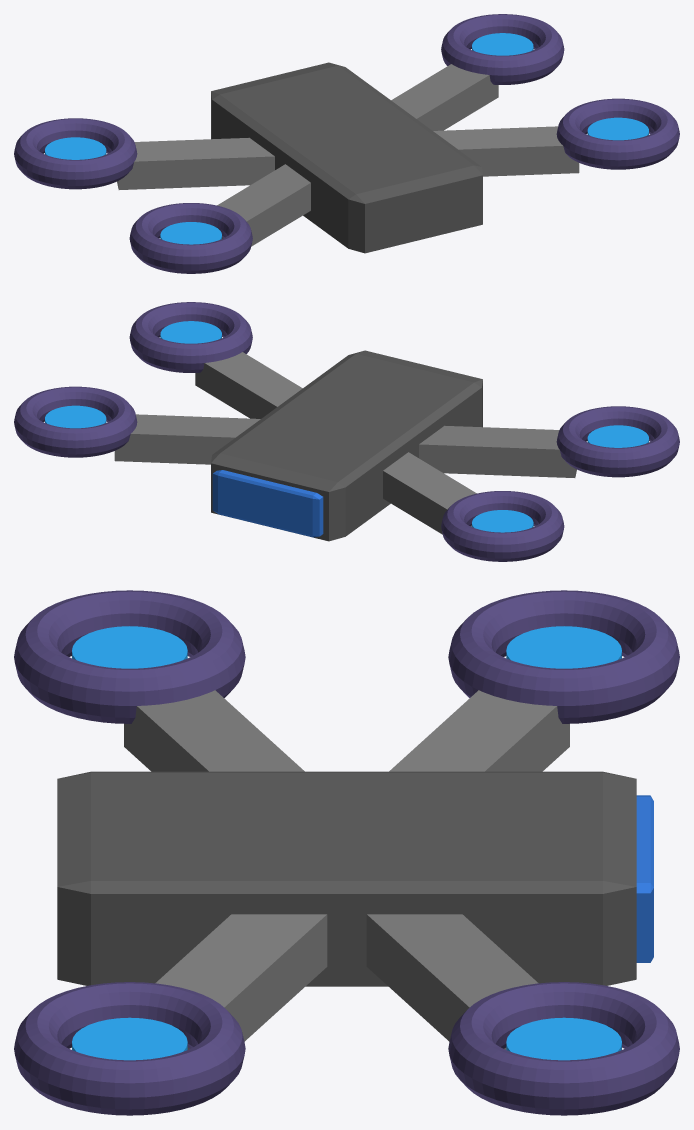
File: droneB.glb
3 views of the same model, one above another, from view 1: azimuth 30°, elevation 25°; view 2: azimuth 150°, elevation 25°; view 3: azimuth 270°, elevation 25° (orthographic). The views are drawn at different scales.
Visible parts, largest first — view 1: Cube, Cube.002, Cube.001, Torus, Torus.001, Torus.003, Torus.002, Cylinder.002, Cylinder.003, Cylinder, Cylinder.001; view 2: Cube, Cube.001, Cube.002, Torus, Torus.001, Torus.002, Torus.003, Cube.003, Cylinder.002, Cylinder.003, Cylinder, Cylinder.001; view 3: Cube, Cube.001, Cube.002, Torus.002, Torus.003, Torus, Torus.001, Cylinder, Cylinder.001, Cylinder.002, Cylinder.003, Cube.003.
Boxes of the visible parts, <box> form: Cube: <box>211,62,482,253</box>; Cube.002: <box>117,126,579,189</box>; Cube.001: <box>217,64,498,246</box>; Torus: <box>14,118,137,189</box>; Torus.001: <box>129,203,252,273</box>; Torus.003: <box>556,98,679,169</box>; Torus.002: <box>441,14,564,84</box>; Cylinder.002: <box>472,33,533,55</box>; Cylinder.003: <box>587,117,648,140</box>; Cylinder: <box>45,137,106,159</box>; Cylinder.001: <box>160,222,221,244</box>; Cube: <box>211,350,482,541</box>; Cube.001: <box>114,414,576,477</box>; Cube.002: <box>195,352,476,534</box>; Torus: <box>441,491,564,561</box>; Torus.001: <box>556,406,679,477</box>; Torus.002: <box>14,386,137,457</box>; Torus.003: <box>129,302,252,372</box>; Cube.003: <box>212,470,323,537</box>; Cylinder.002: <box>45,405,106,428</box>; Cylinder.003: <box>160,321,221,343</box>; Cylinder: <box>472,510,533,532</box>; Cylinder.001: <box>587,425,648,447</box>; Cube: <box>57,771,636,986</box>; Cube.001: <box>124,690,538,1049</box>; Cube.002: <box>155,690,569,1049</box>; Torus.002: <box>448,982,679,1115</box>; Torus.003: <box>14,982,245,1115</box>; Torus: <box>448,590,679,723</box>; Torus.001: <box>14,590,245,723</box>; Cylinder: <box>506,626,621,668</box>; Cylinder.001: <box>72,626,187,668</box>; Cylinder.002: <box>506,1017,621,1060</box>; Cylinder.003: <box>72,1017,187,1060</box>; Cube.003: <box>636,795,653,962</box>.
Size of the model in its own units: 2 by 0.2 by 1.15.
